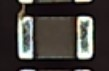COMP: (11, 9, 101, 66)
GAP: (17, 1, 93, 32)
STAN: (15, 2, 29, 22)
